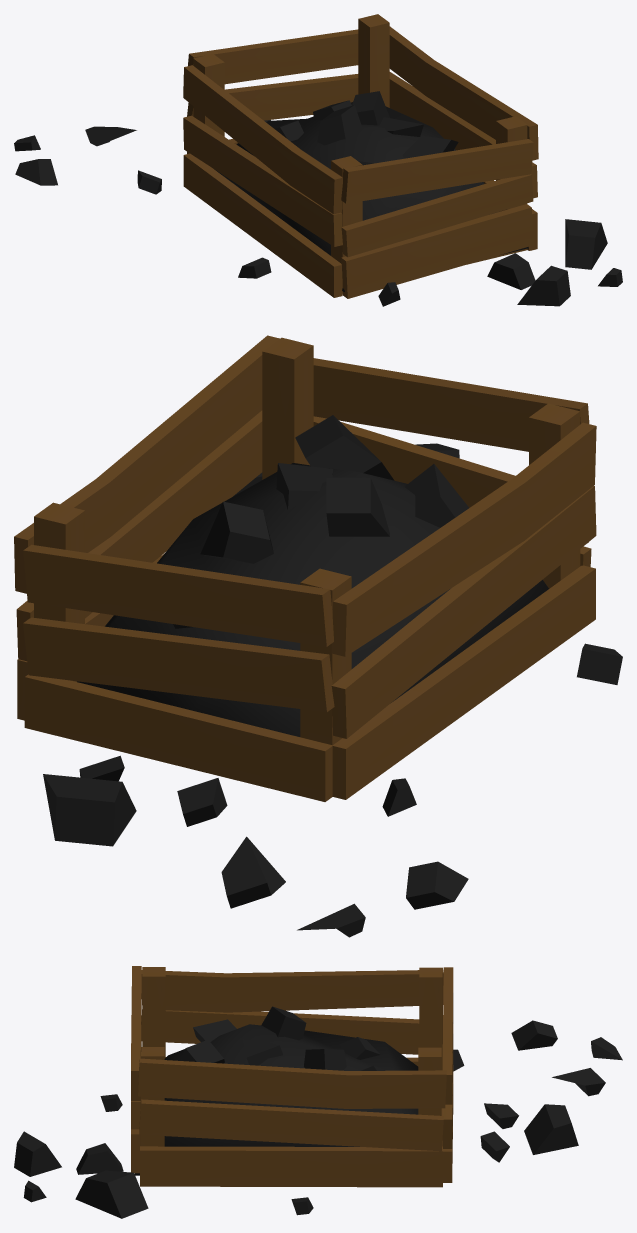
The model's file is GoalPallette.fbx.
The picture shows the model from 3 angles, top to bottom: view 1: azimuth 30°, elevation 25°; view 2: azimuth 150°, elevation 25°; view 3: azimuth 270°, elevation 25°; orthographic projection. The views are drawn at different scales.
Parts seen in each view (by area): view 1: Goal; view 2: Goal; view 3: Goal.
Boxes of the visible parts, x1,y1,x2,y2 form: Goal: (14,14,622,306); Goal: (14,335,622,937); Goal: (14,966,622,1218).
Bounding box in the file's own units: 72.51 × 24.99 × 101.
